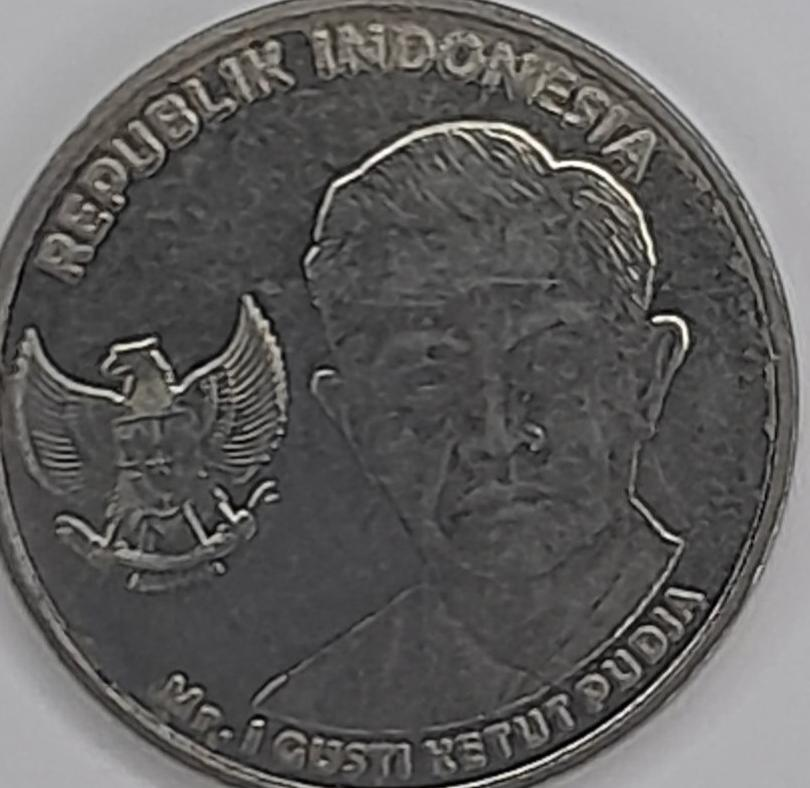coin_1000_e2016: (14, 16, 799, 788)
